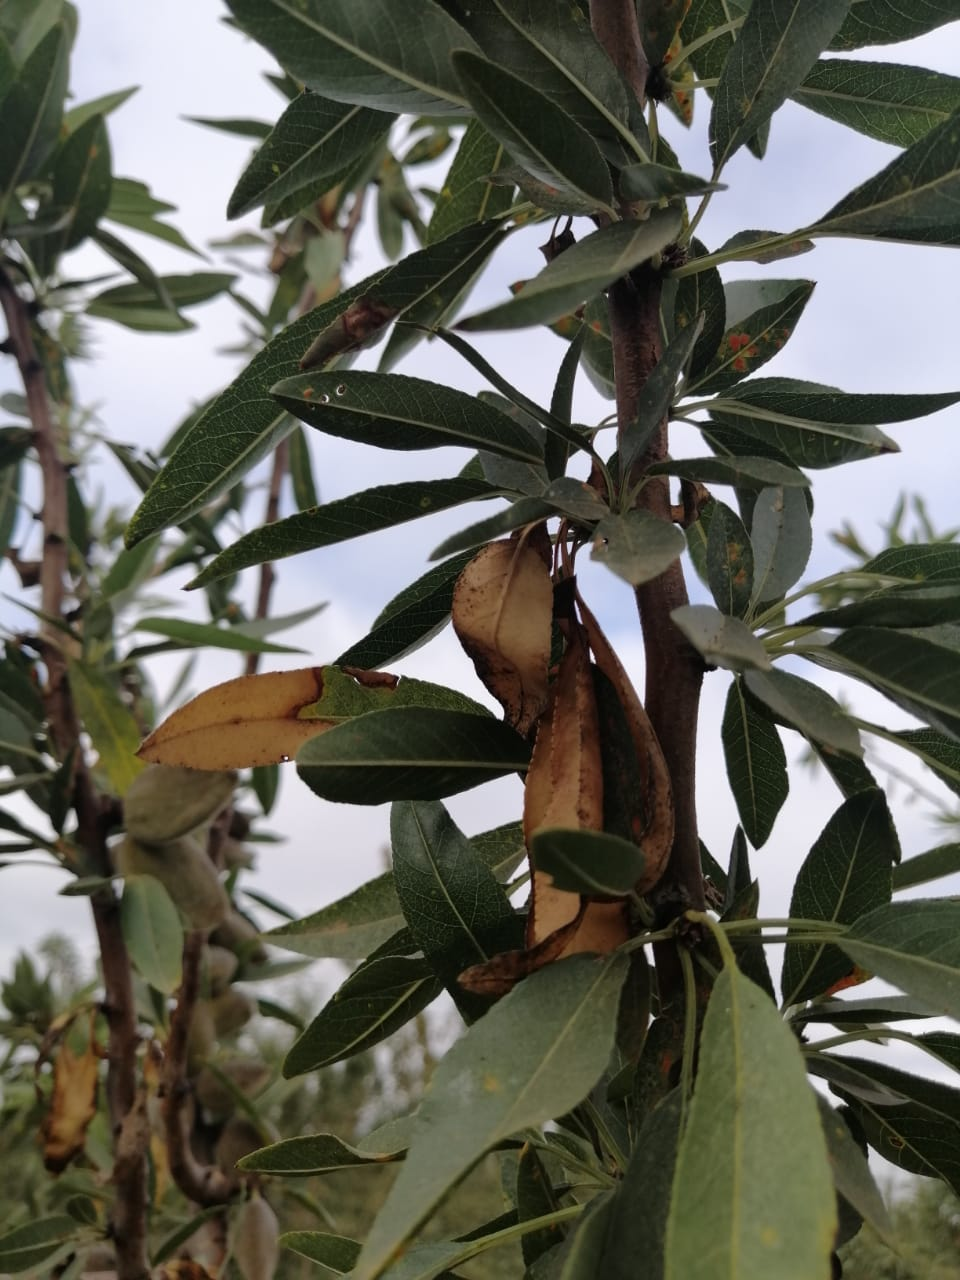scolytes: (138, 525, 742, 995)
